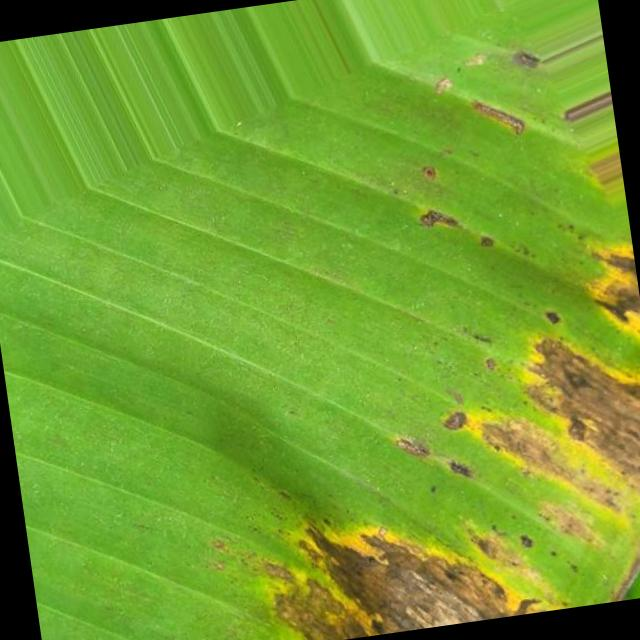Banana_Black_Sigatoka: (386, 183, 640, 498), (252, 456, 578, 640)
